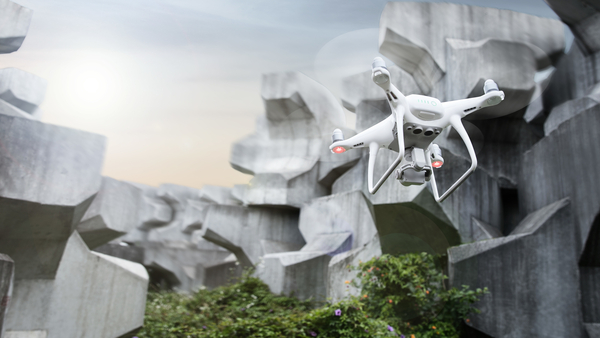drone: (328, 38, 506, 205)
